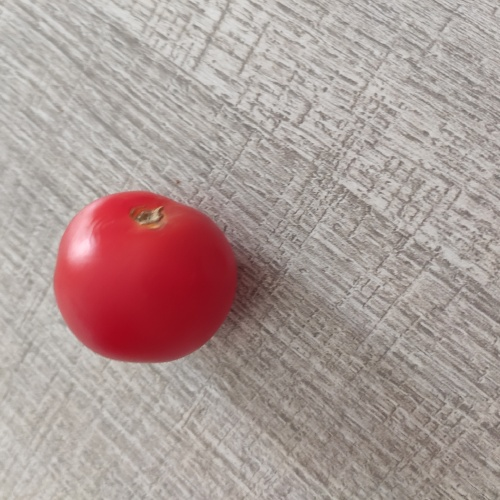pomodoro: (50, 188, 238, 369)
